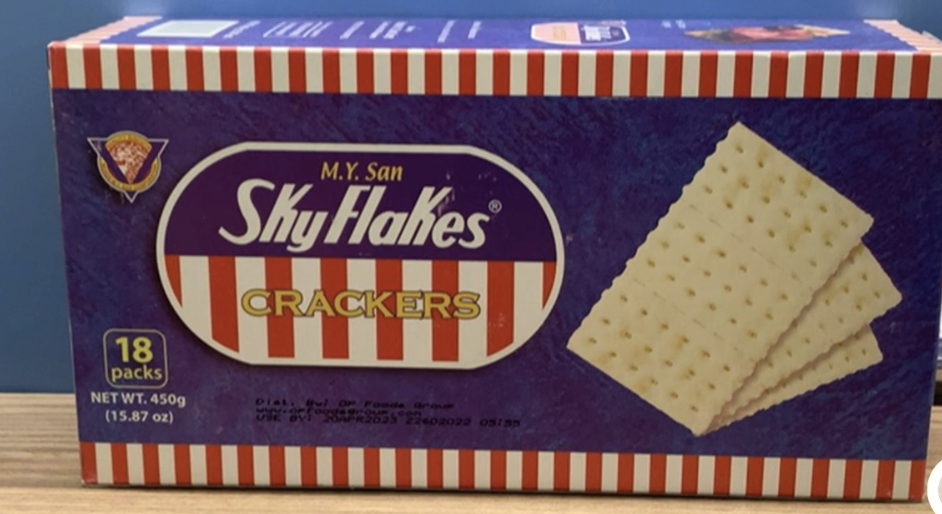crackers_450g: (84, 65, 898, 459)
